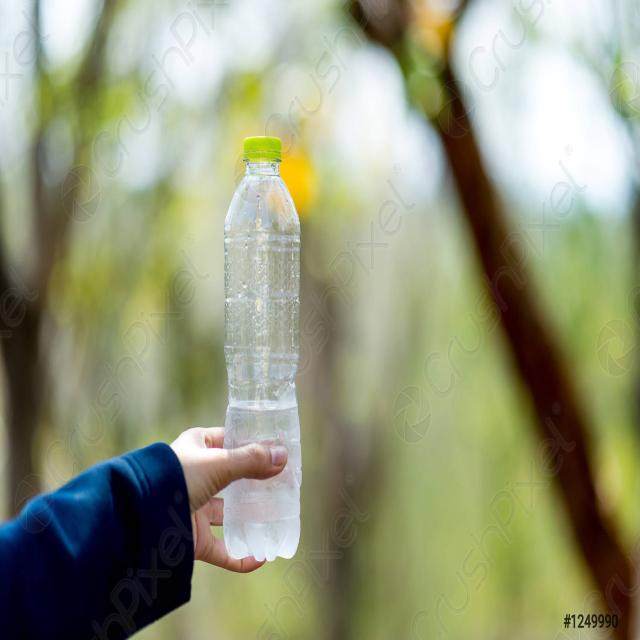bottle: (220, 134, 303, 566)
